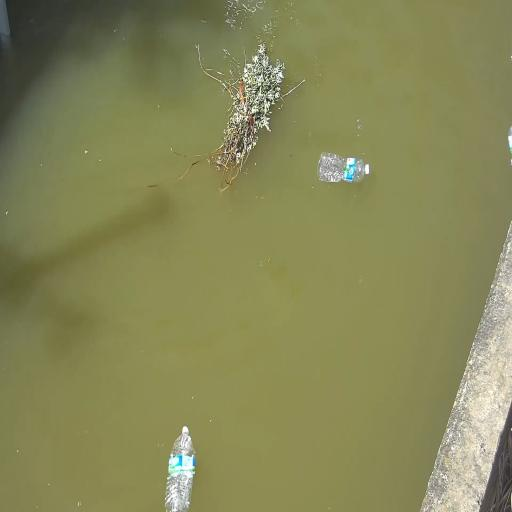plastic: (165, 427, 195, 511), (318, 153, 369, 182), (508, 127, 511, 164)
twig: (201, 42, 288, 190)
